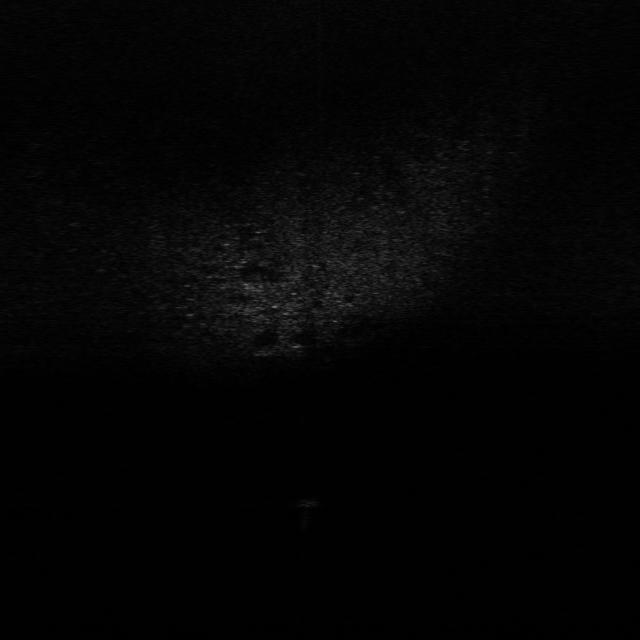cylinder: (292, 491, 322, 527)
